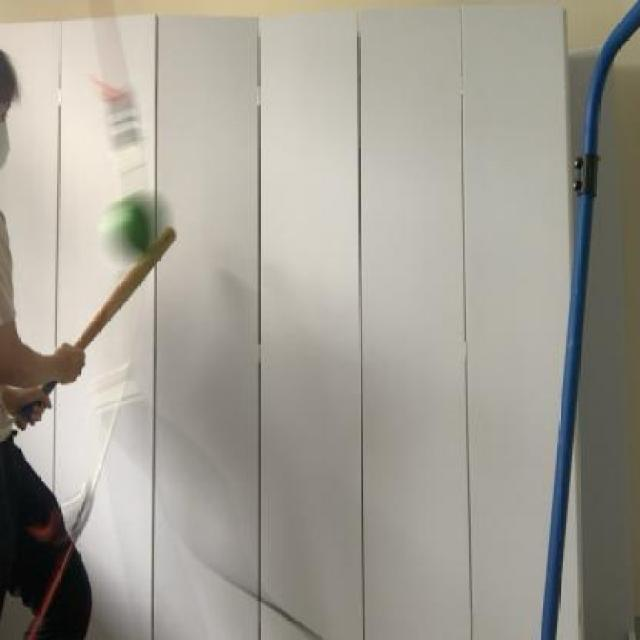baseball: (88, 183, 166, 274)
